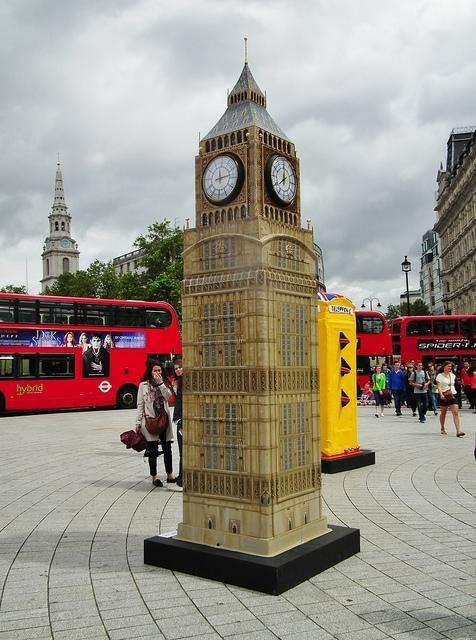bus: (5, 289, 186, 413), (390, 314, 476, 368), (355, 312, 394, 401)
